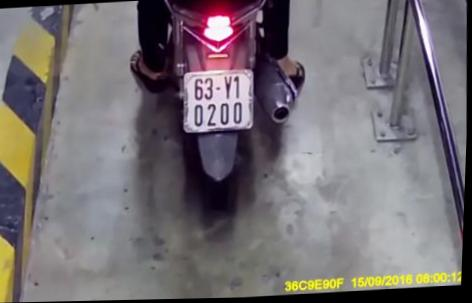LP: (182, 67, 257, 135)
